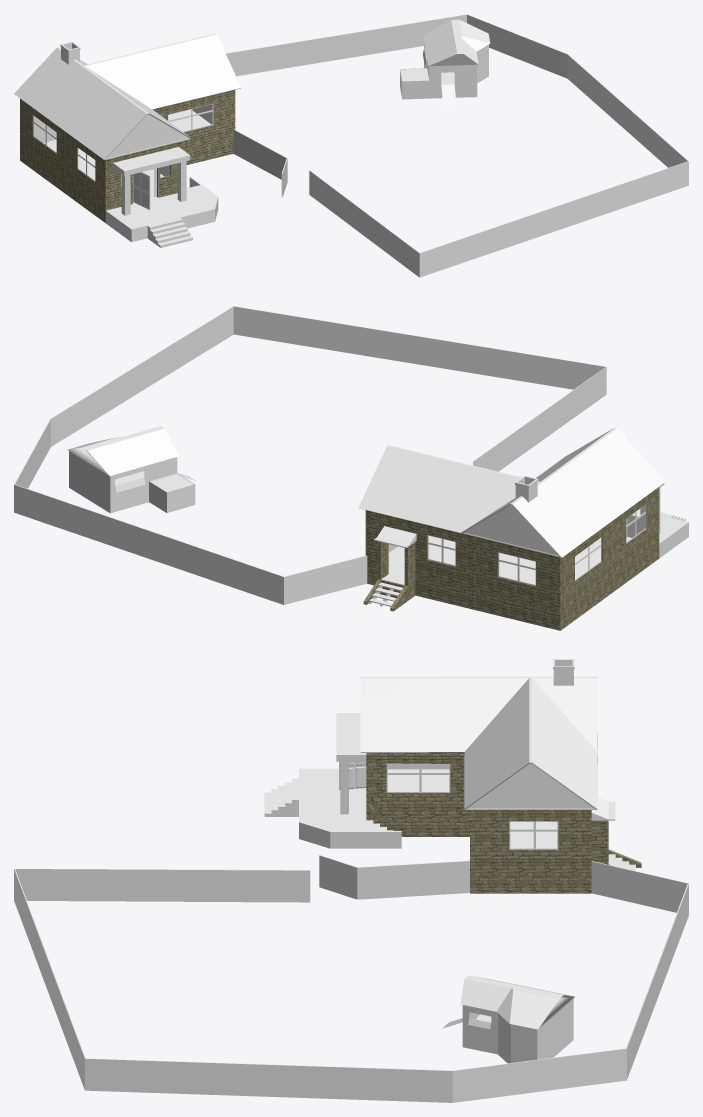
Rendered from Cottage 1.obj.
3 views of the same model, one above another, from view 1: azimuth 30°, elevation 25°; view 2: azimuth 150°, elevation 25°; view 3: azimuth 270°, elevation 25° (orthographic). The views are drawn at different scales.
Parts seen in each view (by area): view 1: Main_House, Ranch_Fence, Chicken_Coop, Stairs.2, Front_Door; view 2: Main_House, Ranch_Fence, Chicken_Coop, Stairs; view 3: Main_House, Ranch_Fence, Chicken_Coop, Fence_Door, Stairs.2.
Boxes of the visible parts, x1,y1,x2,y2 form: Main_House: [14, 33, 241, 242]; Ranch_Fence: [225, 14, 688, 277]; Chicken_Coop: [400, 19, 490, 110]; Stairs.2: [147, 217, 193, 247]; Front_Door: [133, 172, 150, 209]; Main_House: [358, 428, 688, 630]; Ranch_Fence: [14, 306, 606, 604]; Chicken_Coop: [67, 426, 195, 513]; Stairs: [369, 577, 404, 606]; Main_House: [299, 659, 641, 893]; Ranch_Fence: [14, 860, 688, 1102]; Chicken_Coop: [442, 975, 574, 1063]; Fence_Door: [319, 855, 357, 899]; Stairs.2: [264, 778, 298, 816].
Size of the model in its own units: 52.24 by 11.3 by 46.57.
Materials: 2 (1 with a texture image).
